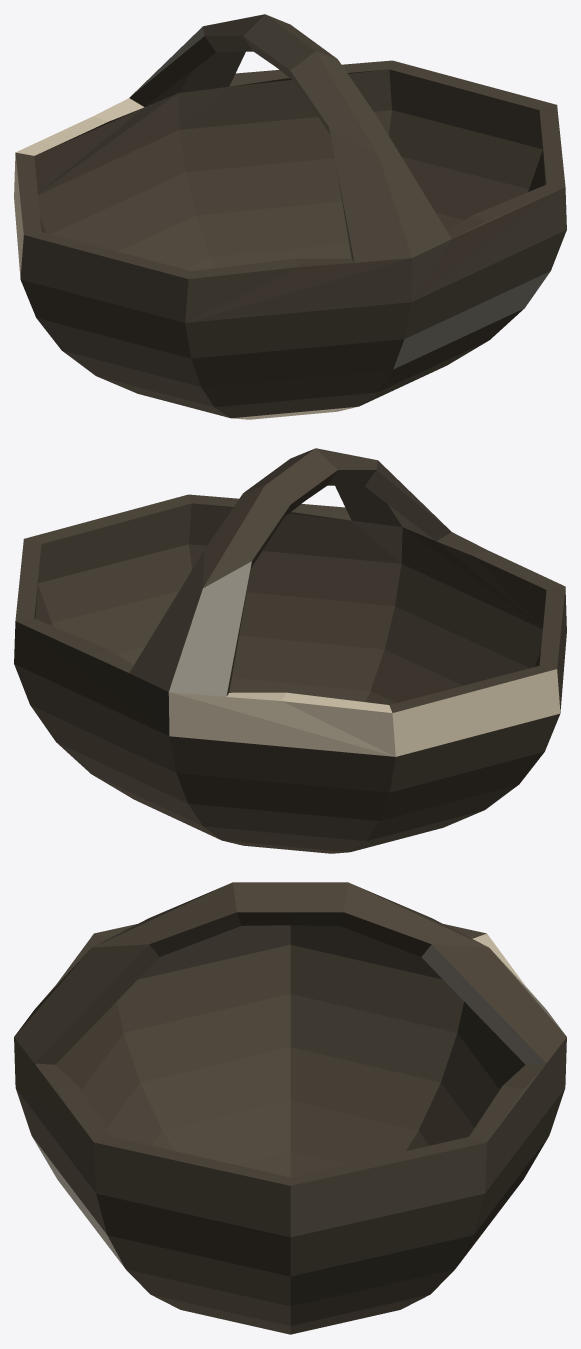
File: low_poly_basket.glb
3 views of the same model, one above another, from view 1: azimuth 30°, elevation 25°; view 2: azimuth 150°, elevation 25°; view 3: azimuth 270°, elevation 25° (orthographic). The views are drawn at different scales.
Visible parts, largest first — view 1: Cube; view 2: Cube; view 3: Cube.
Part boxes in pixels (bbox=[...]): Cube: bbox=[14, 14, 566, 419]; Cube: bbox=[14, 448, 566, 853]; Cube: bbox=[14, 882, 566, 1334].
Size of the model in its own units: 1.96 by 1.25 by 1.53.
